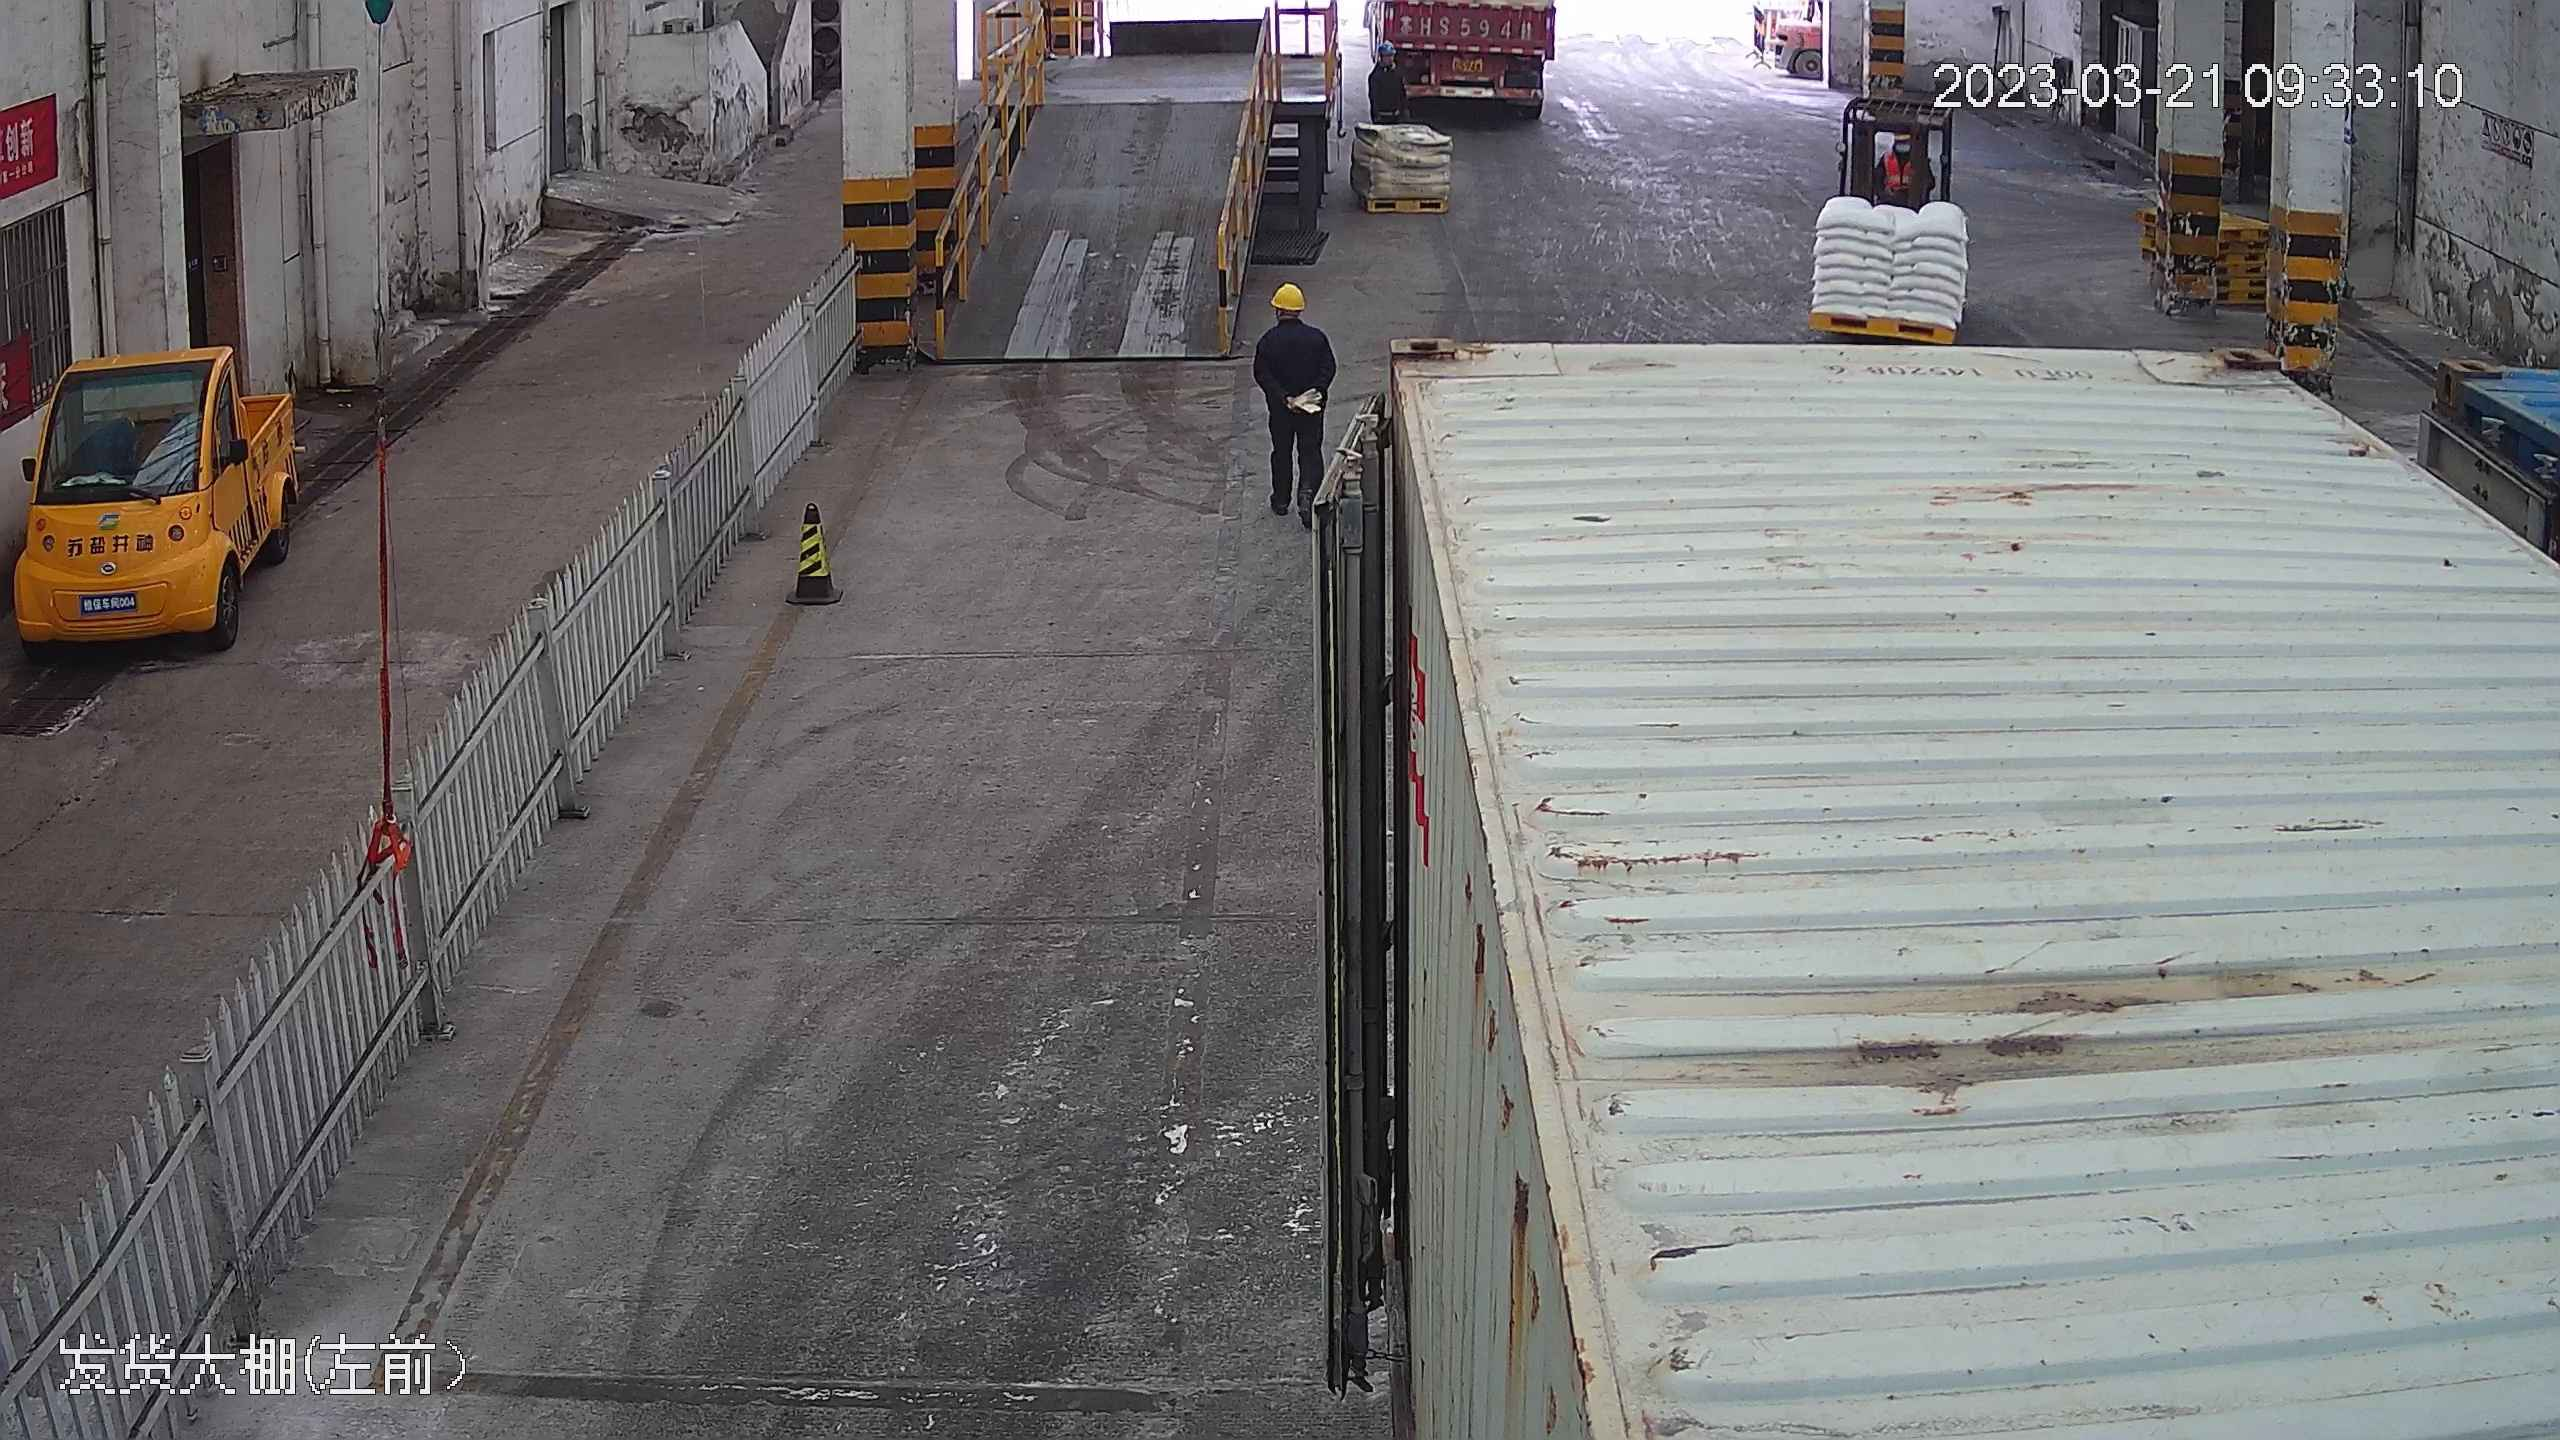head: (1251, 277, 1336, 521), (1253, 280, 1330, 356)
helmet: (1269, 280, 1307, 309)
people: (1251, 275, 1335, 525)
truck: (1265, 304, 2556, 1440)
